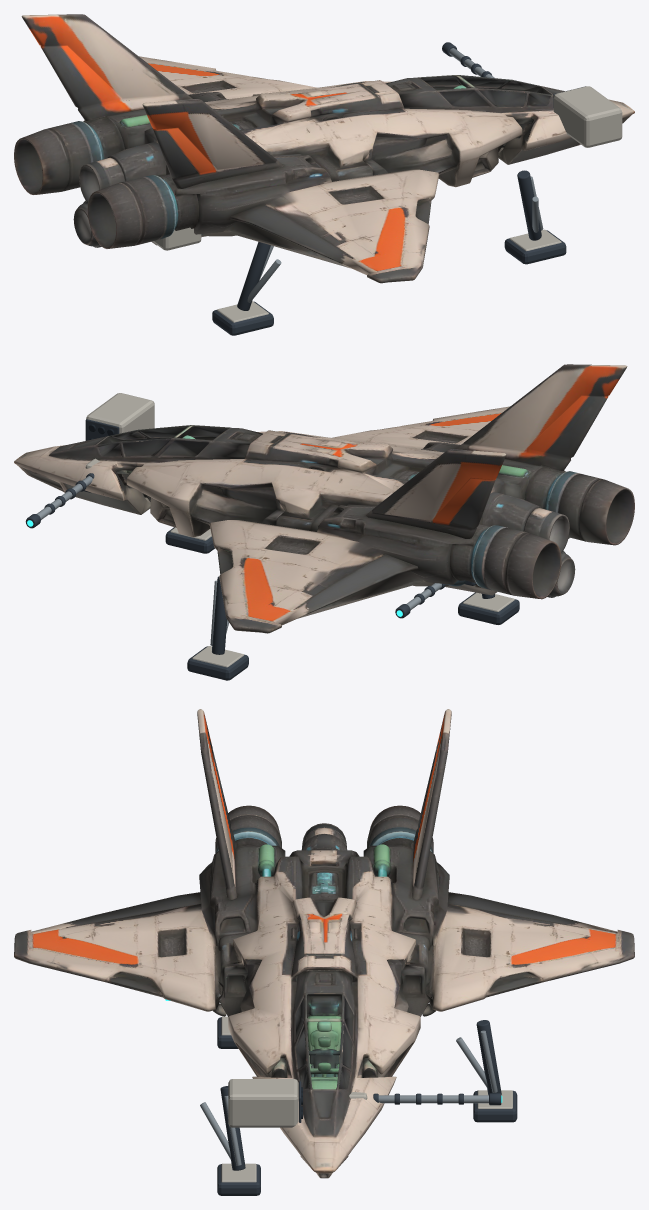
File: interceptor.glb
3 views of the same model, one above another, from view 1: azimuth 30°, elevation 25°; view 2: azimuth 150°, elevation 25°; view 3: azimuth 270°, elevation 25° (orthographic). The views are drawn at different scales.
Parts seen in each view (by area): view 1: Hull, Rocket armor.001, LandingGear0_Graphite_frame, LandingGear1_Graphite_frame, Rocket armor, Pad plating, Pad plating.001; view 2: Hull, Rocket armor.001, LandingGear2_Graphite_frame, LandingGear0_Graphite_frame, LandingGear1_Graphite_frame, Pad plating.002, Pad plating; view 3: Hull, Rocket armor.001, LandingGear2_Graphite_frame, LandingGear1_Graphite_frame, Cannon barrel.001, LandingGear2_Machined_alloy, LandingGear1_Machined_alloy.
Part boxes in pixels (left/top/right/bottom): Hull: left=14, top=14, right=634, bottom=283; Rocket armor.001: left=553, top=86, right=622, bottom=147; LandingGear0_Graphite_frame: left=212, top=242, right=273, bottom=335; LandingGear1_Graphite_frame: left=504, top=170, right=566, bottom=264; Rocket armor: left=152, top=227, right=201, bottom=250; Pad plating: left=217, top=301, right=268, bottom=322; Pad plating.001: left=509, top=229, right=561, bottom=250; Hull: left=14, top=364, right=634, bottom=633; Rocket armor.001: left=86, top=393, right=154, bottom=433; LandingGear2_Graphite_frame: left=187, top=576, right=248, bottom=680; LandingGear0_Graphite_frame: left=458, top=592, right=519, bottom=624; LandingGear1_Graphite_frame: left=165, top=527, right=214, bottom=553; Pad plating.002: left=192, top=646, right=243, bottom=667; Pad plating: left=463, top=592, right=514, bottom=611; Hull: left=14, top=709, right=634, bottom=1178; Rocket armor.001: left=228, top=1079, right=298, bottom=1127; LandingGear2_Graphite_frame: left=473, top=1020, right=517, bottom=1122; LandingGear1_Graphite_frame: left=217, top=1086, right=260, bottom=1195; Cannon barrel.001: left=378, top=1095, right=488, bottom=1103; LandingGear2_Machined_alloy: left=456, top=1030, right=497, bottom=1092; LandingGear1_Machined_alloy: left=200, top=1095, right=241, bottom=1165.
Bounding box in the file's own units: 11 × 4.91 × 10.18.
Materials: 6 (1 with a texture image).
